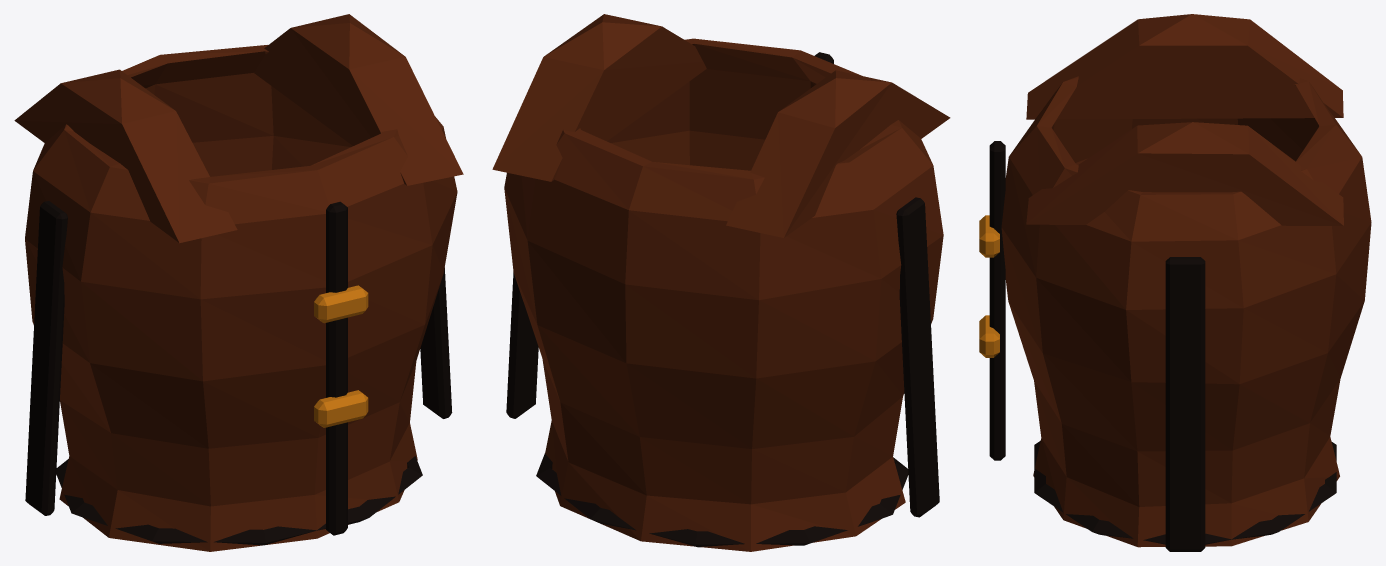
File: Item_LeatherVest.fbx
3 renders of one model, left to right at view 1: azimuth 30°, elevation 25°; view 2: azimuth 150°, elevation 25°; view 3: azimuth 270°, elevation 25°, orthographic. The views are drawn at different scales.
Parts seen in each view (by area): view 1: Item_LeatherVest; view 2: Item_LeatherVest; view 3: Item_LeatherVest.
Boxes of the visible parts, bbox=[...] form: Item_LeatherVest: bbox=[14, 14, 463, 551]; Item_LeatherVest: bbox=[492, 14, 950, 551]; Item_LeatherVest: bbox=[979, 14, 1371, 551].
Bounding box in the file's own units: 0.5743 × 0.5735 × 0.4966.
